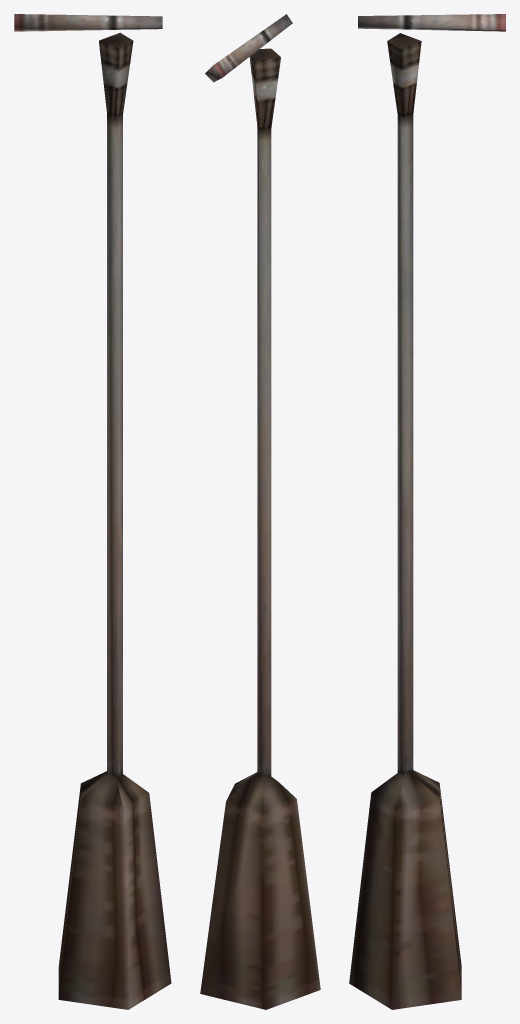
Rendered from eqp_music_microphone_s1_l1.fbx.
3 renders of one model, left to right at view 1: azimuth 90°, elevation 25°; view 2: azimuth 150°, elevation 25°; view 3: azimuth 270°, elevation 25°, orthographic.
Visible parts, largest first — view 1: mesh_node; view 2: mesh_node; view 3: mesh_node.
Boxes of the visible parts, x1,y1,x2,y2 form: mesh_node: [14, 14, 171, 1009]; mesh_node: [200, 14, 320, 1009]; mesh_node: [349, 14, 505, 1009].
Bounding box in the file's own units: 0.165 × 1.41 × 0.2066.
1 material, 1 textured.
